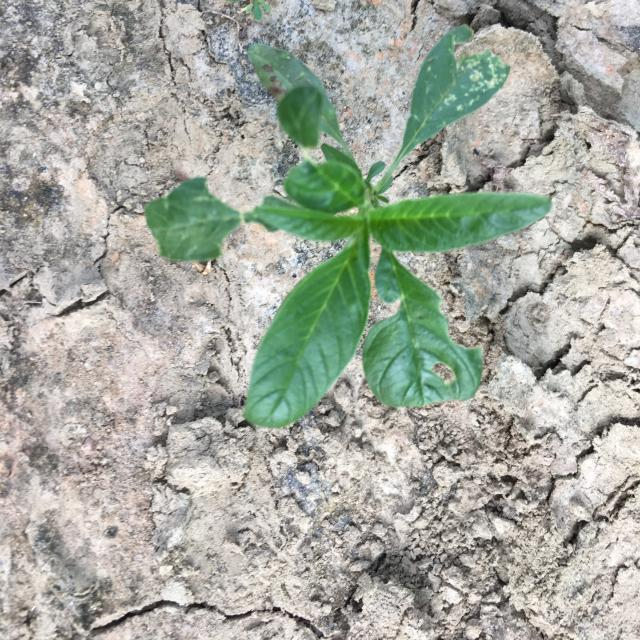Waterhemp: (142, 23, 552, 429)
